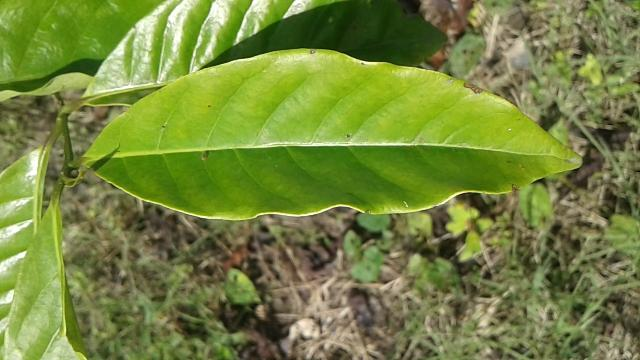healthy: (79, 43, 592, 223)
